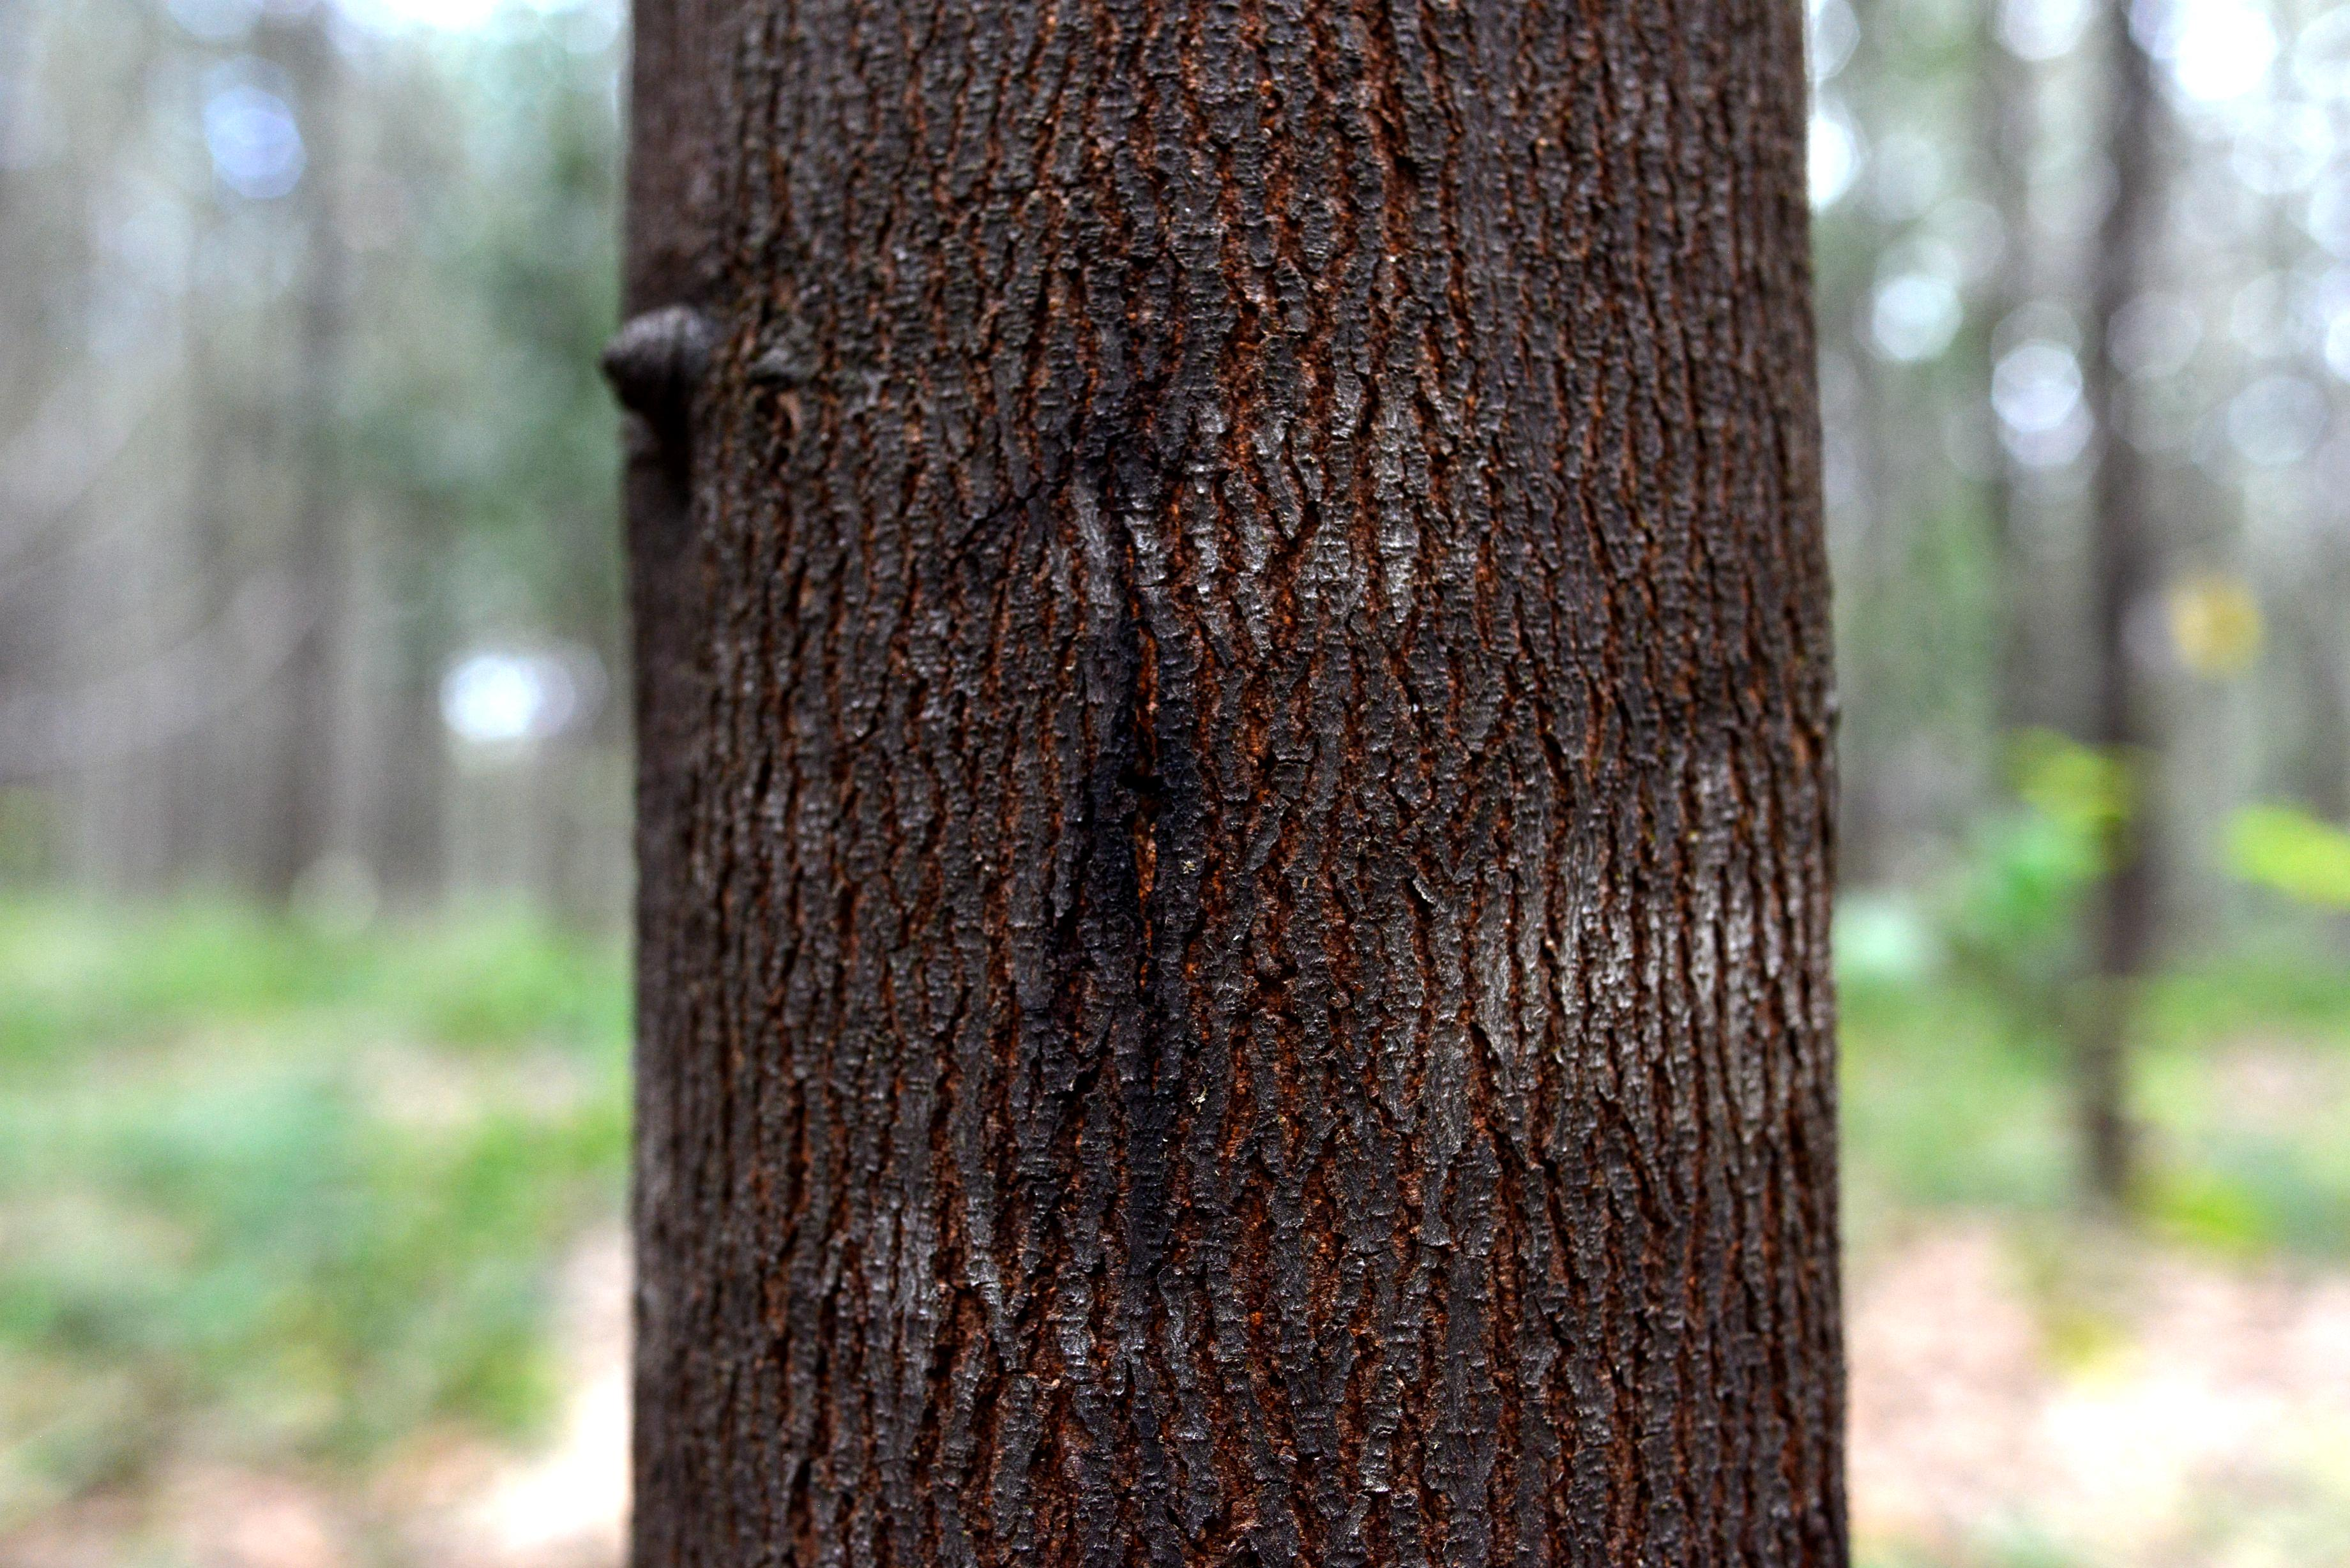Stem Borer: (1034, 611, 1230, 1232), (1036, 329, 1195, 506)
